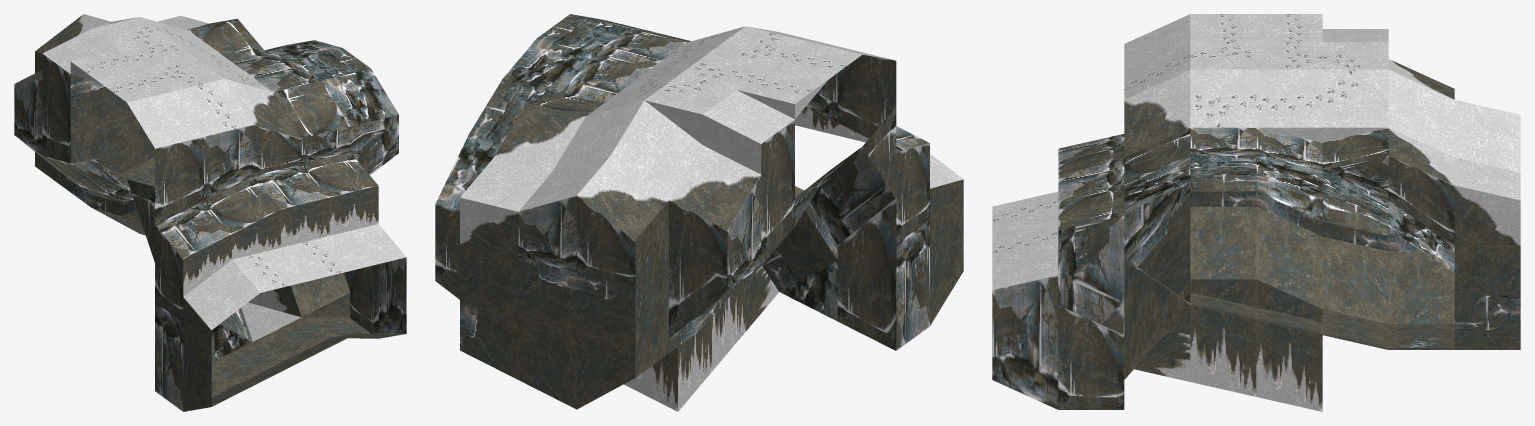
The model's file is room04.obj.
The picture shows the model from 3 angles, left to right: view 1: azimuth 30°, elevation 25°; view 2: azimuth 150°, elevation 25°; view 3: azimuth 270°, elevation 25°; orthographic projection. The views are drawn at different scales.
Parts seen in each view (by area): view 1: 01-Caves.004; view 2: 01-Caves.004; view 3: 01-Caves.004.
Boxes of the visible parts, x1,y1,x2,y2 form: 01-Caves.004: (14, 14, 406, 411); 01-Caves.004: (435, 14, 963, 411); 01-Caves.004: (992, 14, 1520, 411).
Bounding box in the file's own units: 50 × 55 × 80.
Materials: 1 (1 with a texture image).
